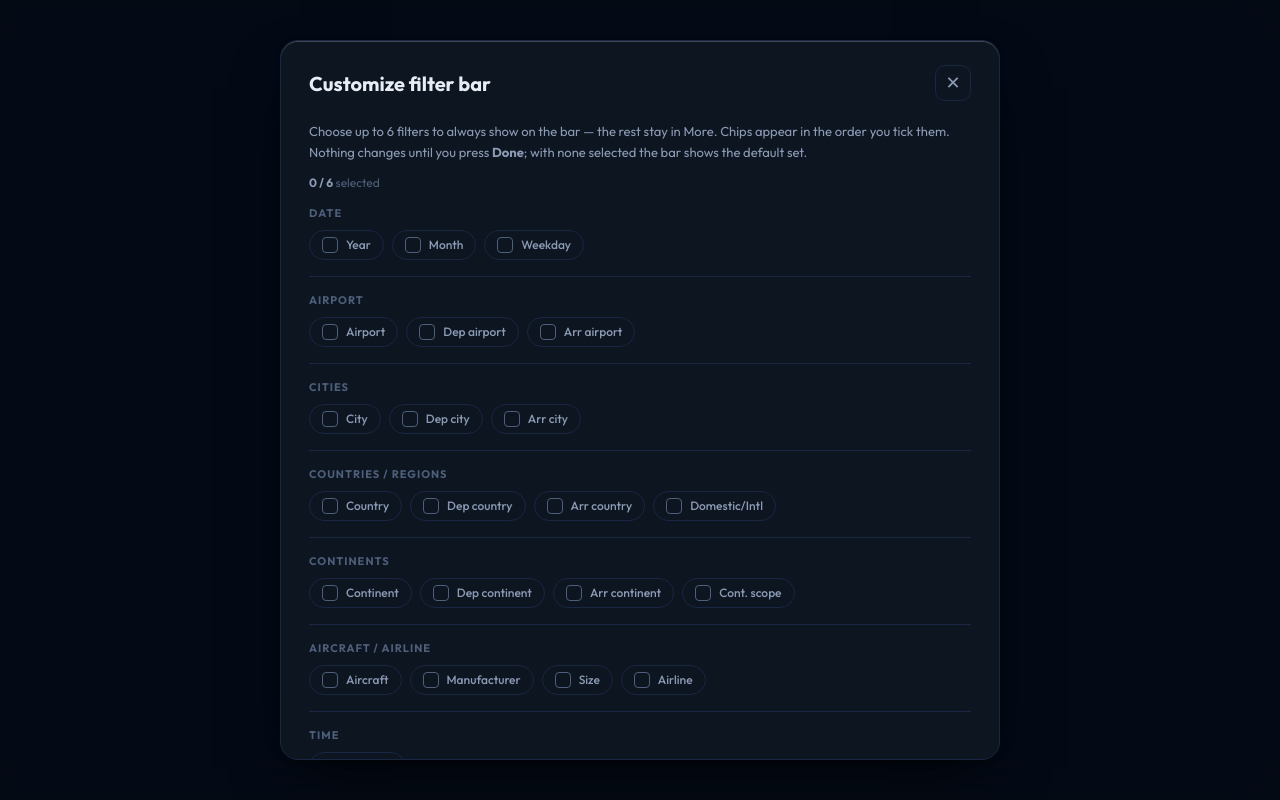
Test: CustomizeBarModal › 6個選ぶと未選択チップは無効化される（最大6）
Click the checkbox labelled "Year" at (330, 245), box [322, 237, 338, 253]
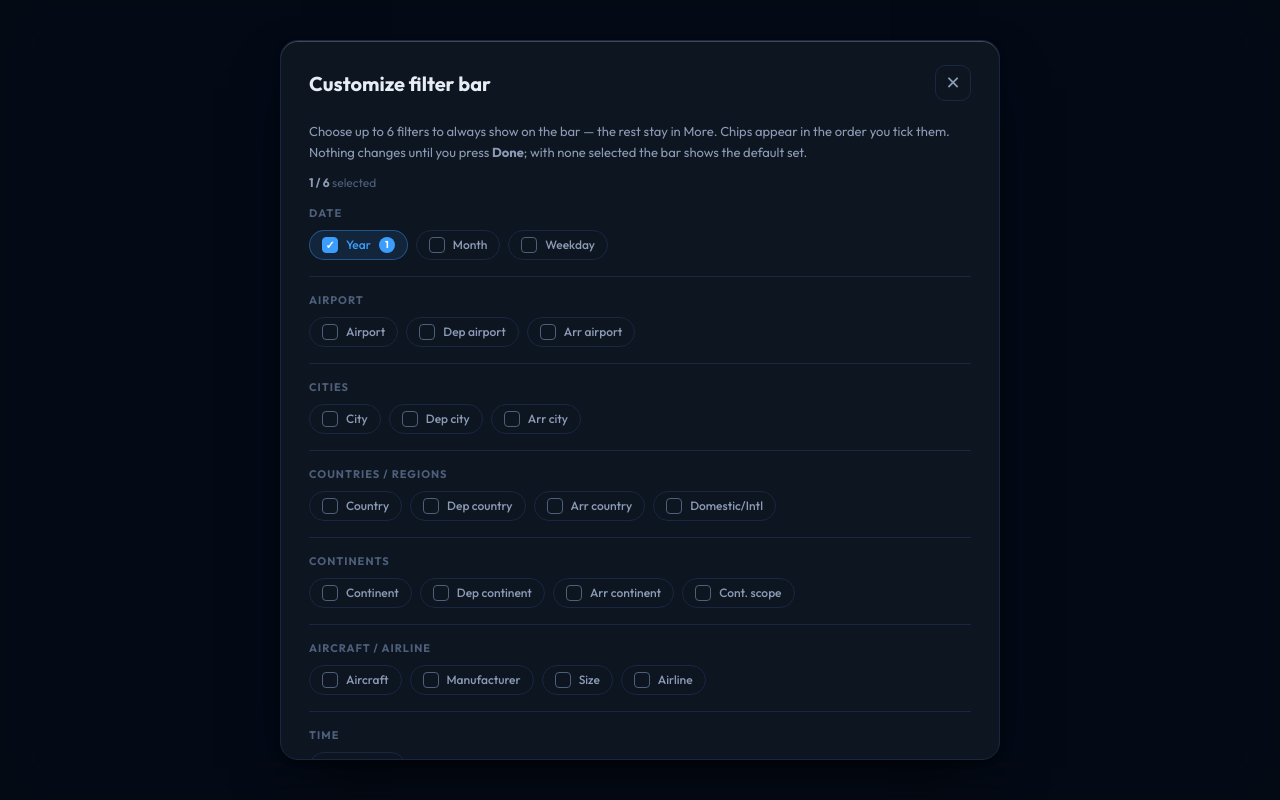
Click the checkbox labelled "Month" at (437, 245), box [429, 237, 445, 253]
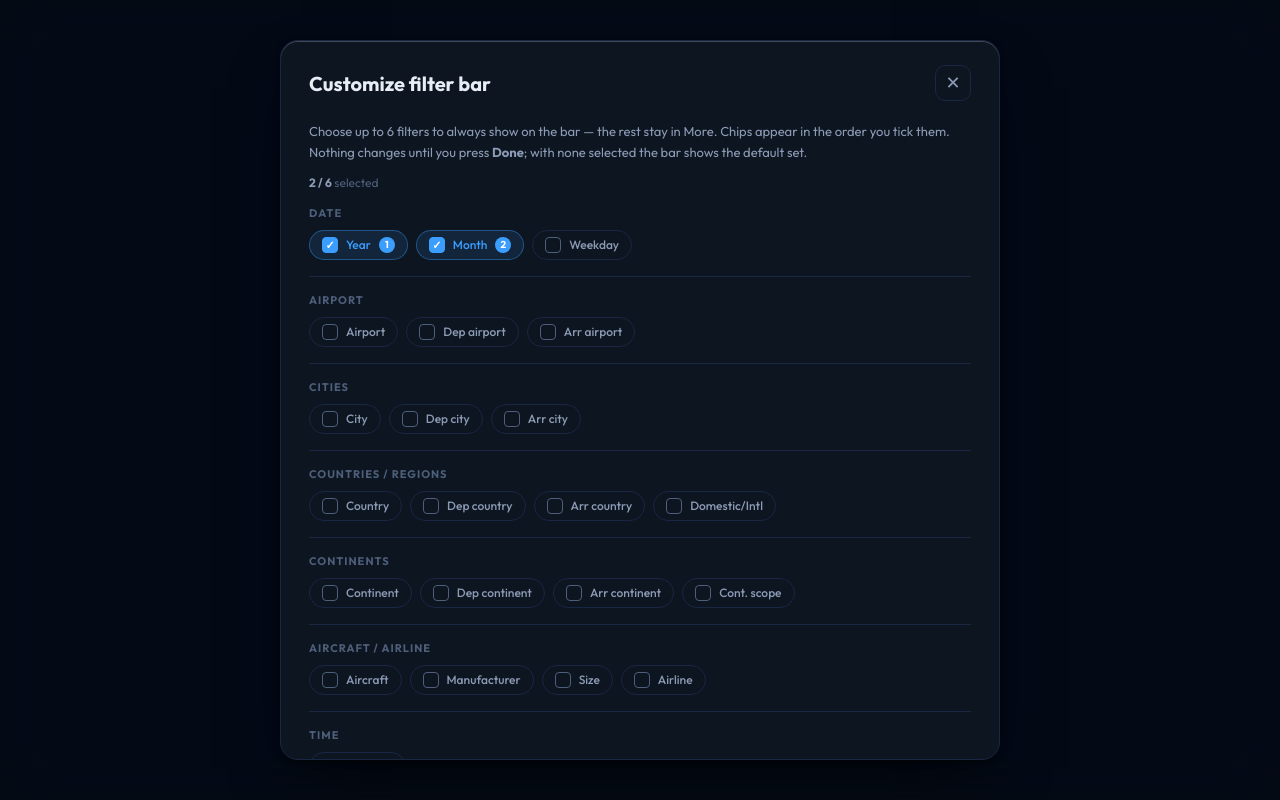
Click the checkbox labelled "Weekday" at (553, 245), box [545, 237, 561, 253]
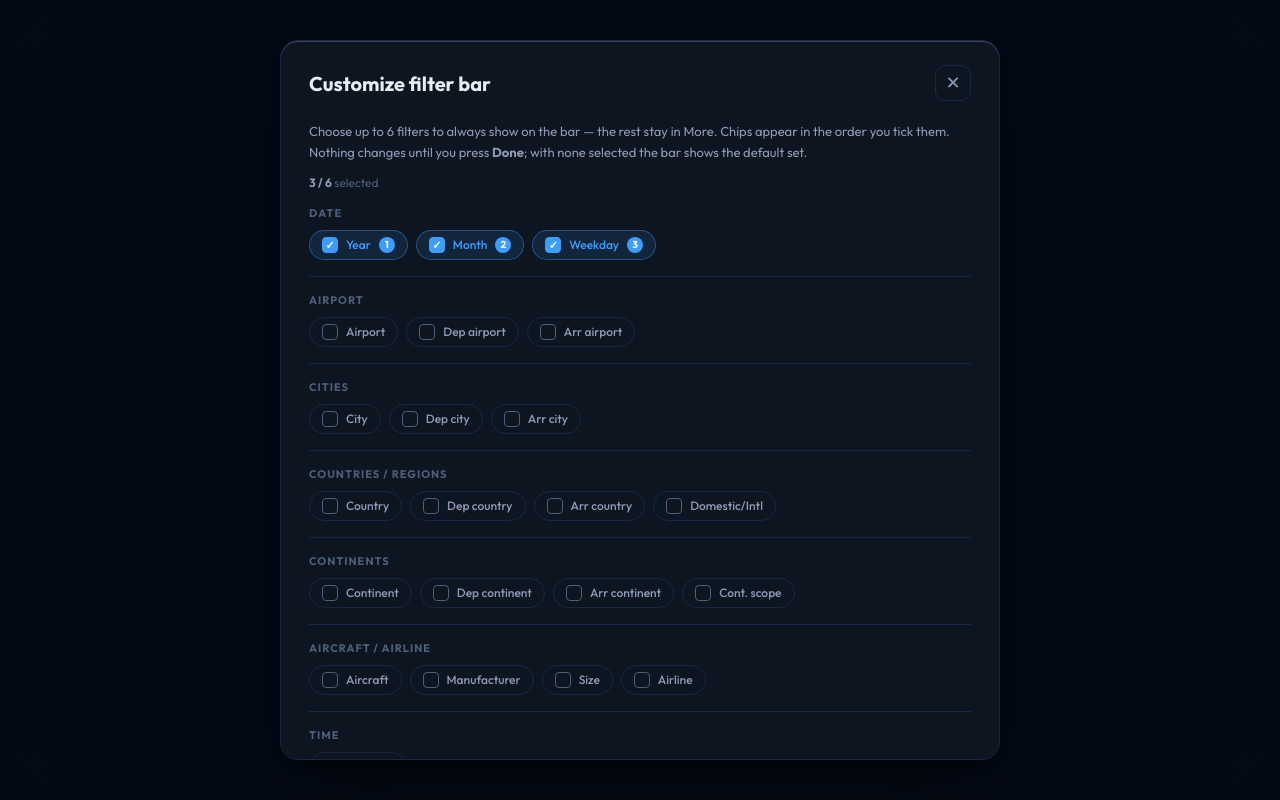
Click the checkbox labelled "Airport" at (330, 332), box [322, 324, 338, 340]
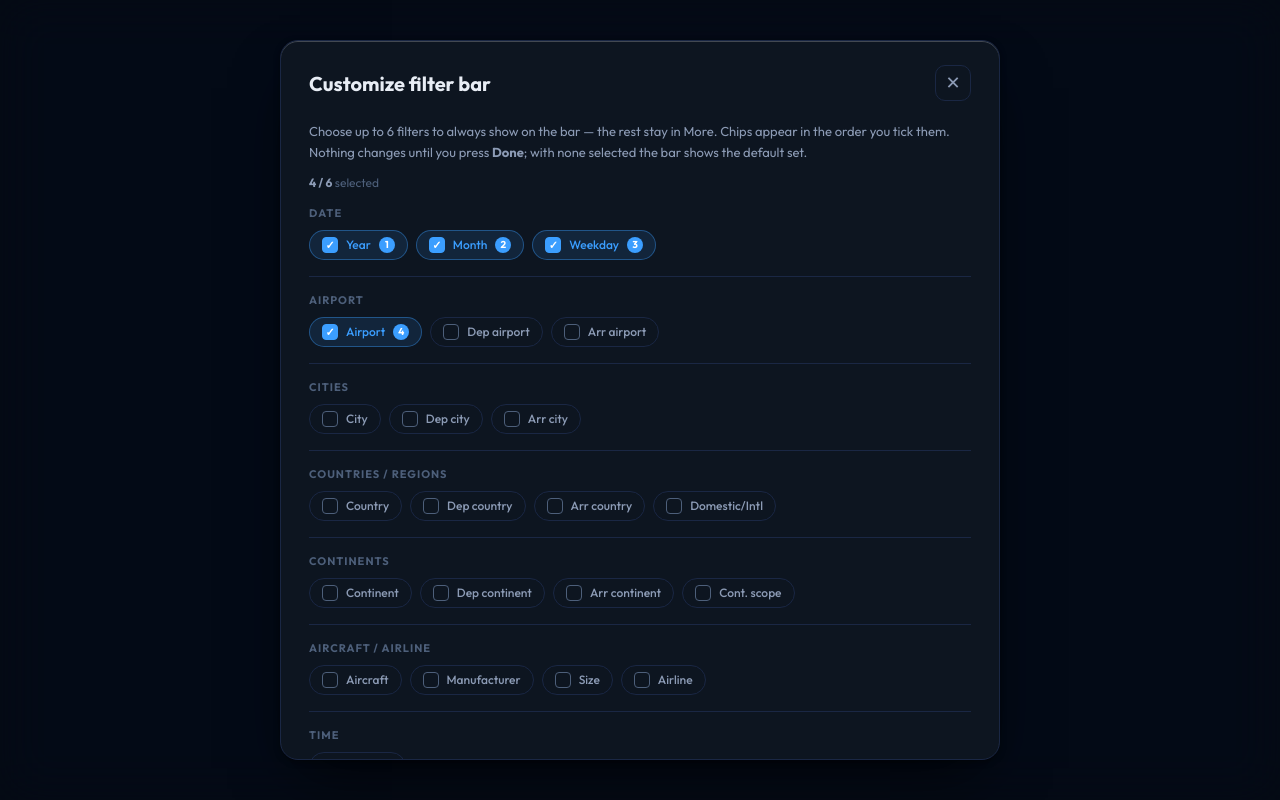
Click the checkbox labelled "City" at (330, 419), box [322, 411, 338, 427]
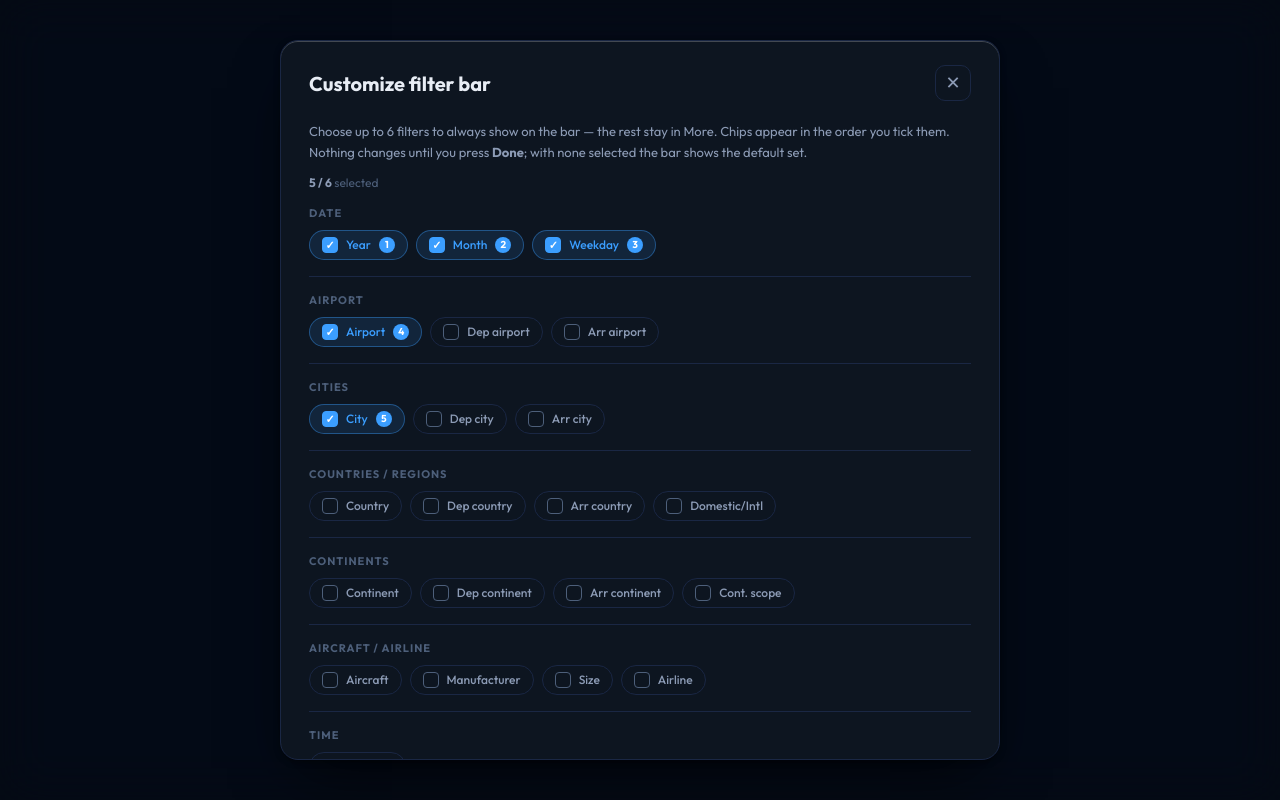
Click the checkbox labelled "Country" at (330, 506), box [322, 498, 338, 514]
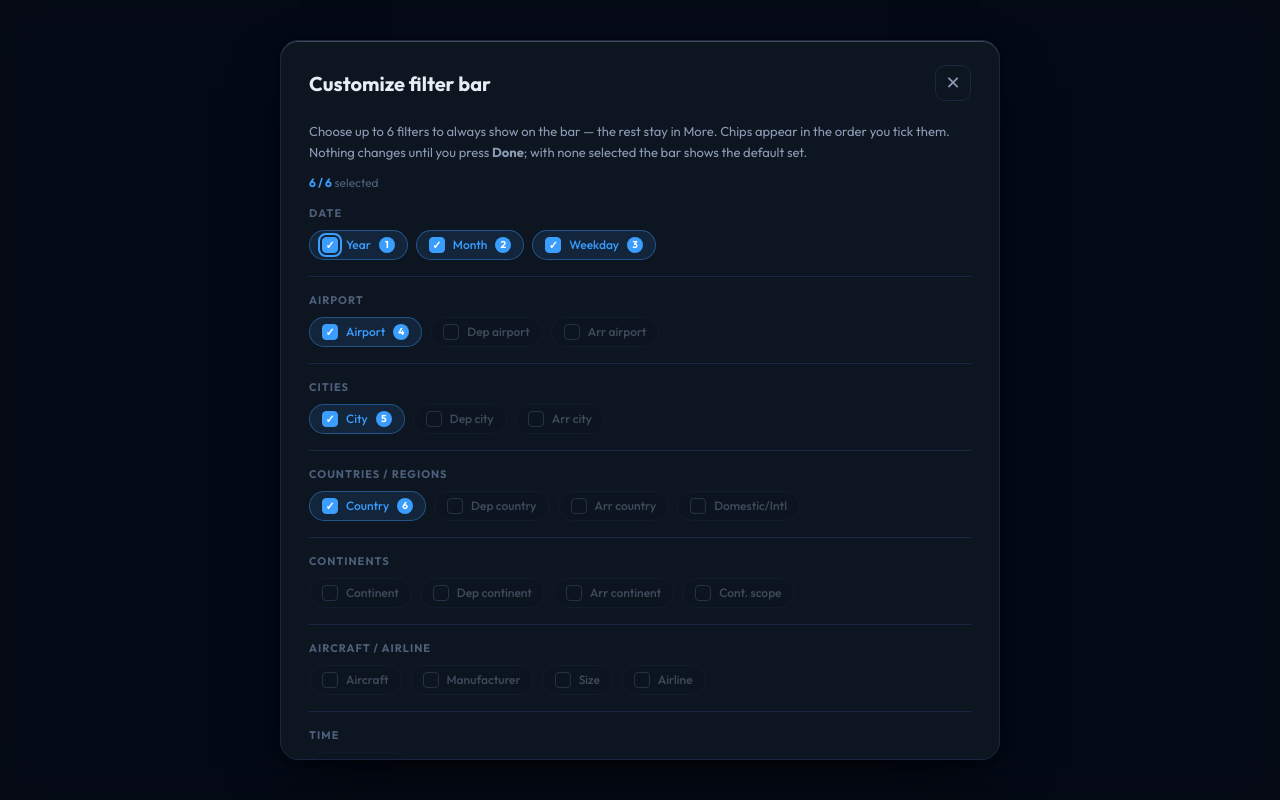
Expected: the checkbox labelled "Year" is enabled, [322, 237, 338, 253]
Expected: the text "6 / 6" is shown, [309, 175, 332, 190]
